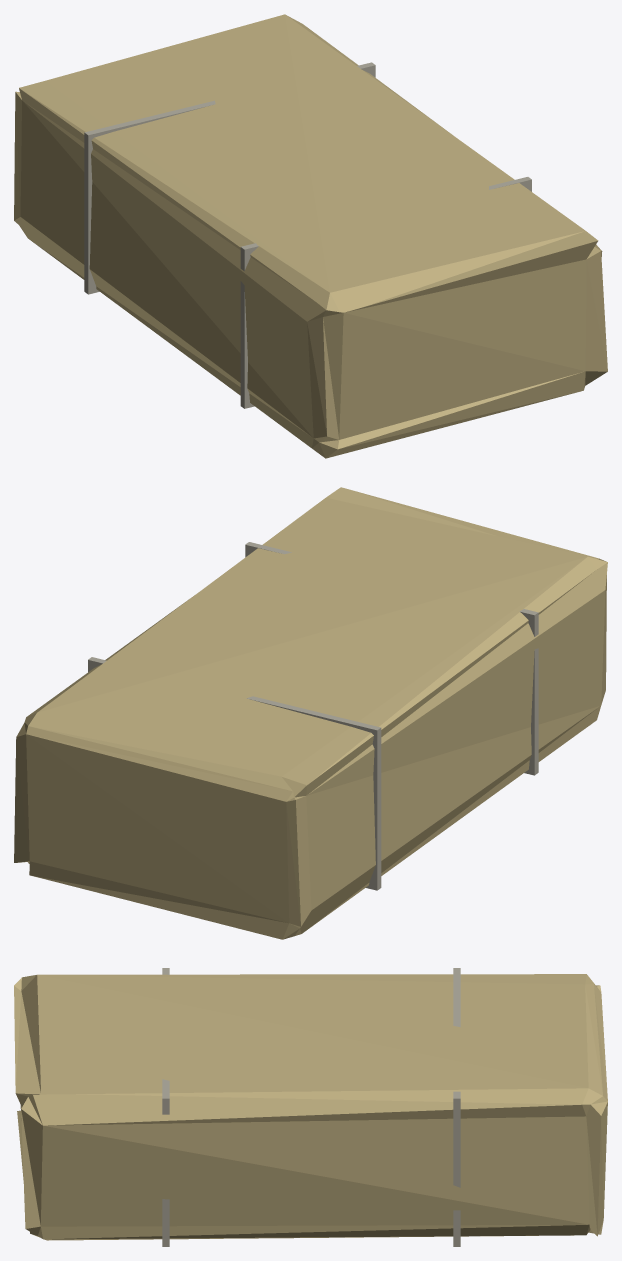
The model's file is hay_bale.glb.
3 views of the same model, one above another, from view 1: azimuth 30°, elevation 25°; view 2: azimuth 150°, elevation 25°; view 3: azimuth 270°, elevation 25° (orthographic). The views are drawn at different scales.
Parts seen in each view (by area): view 1: hay_bale; view 2: hay_bale; view 3: hay_bale.
Part boxes in pixels (bbox=[...]): hay_bale: bbox=[14, 14, 607, 458]; hay_bale: bbox=[14, 487, 607, 939]; hay_bale: bbox=[14, 968, 607, 1246].
Bounding box in the file's own units: 0.8735 × 0.471 × 1.63.
